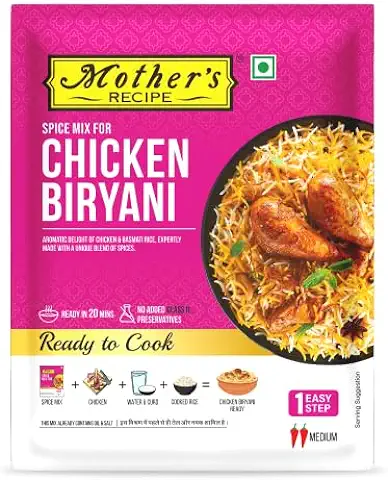Biryani: (8, 4, 388, 465)
